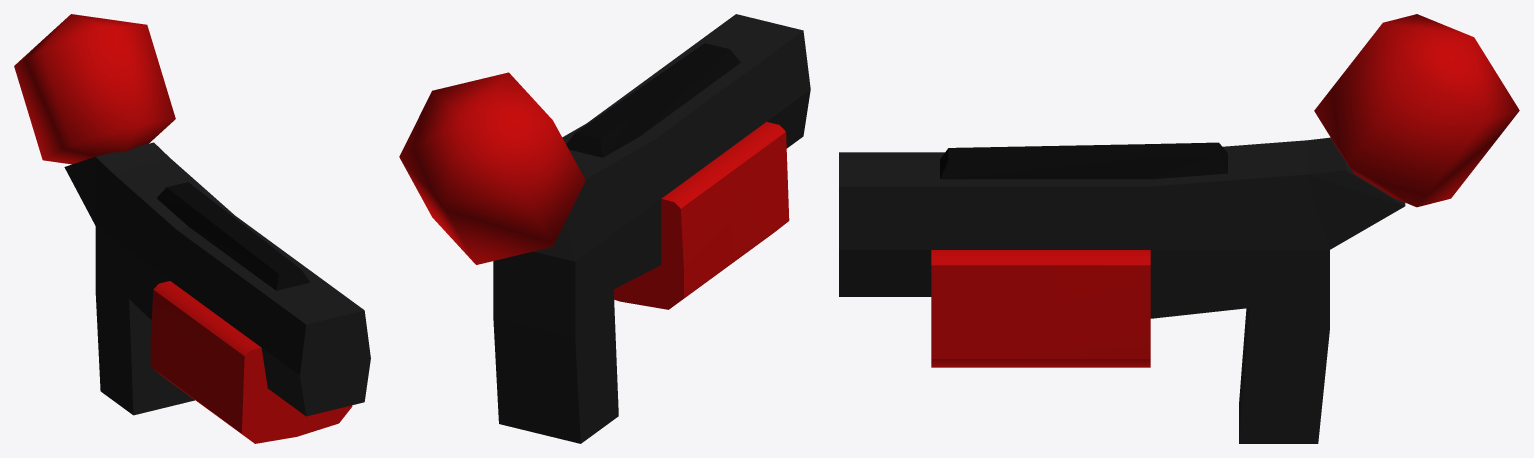
The model's file is BluePistol.FBX.
3 renders of one model, left to right at view 1: azimuth 30°, elevation 25°; view 2: azimuth 150°, elevation 25°; view 3: azimuth 270°, elevation 25°, orthographic. The views are drawn at different scales.
Parts seen in each view (by area): view 1: Weapon, Clip; view 2: Weapon, Clip; view 3: Weapon, Clip.
Part boxes in pixels (x1,y1,x2,y2): Weapon: (64,142,370,443); Clip: (14,14,175,164); Weapon: (493,14,810,443); Clip: (399,72,585,264); Weapon: (839,137,1405,443); Clip: (1314,14,1519,207).
Bounding box in the file's own units: 17.62 × 50.8 × 78.26.
